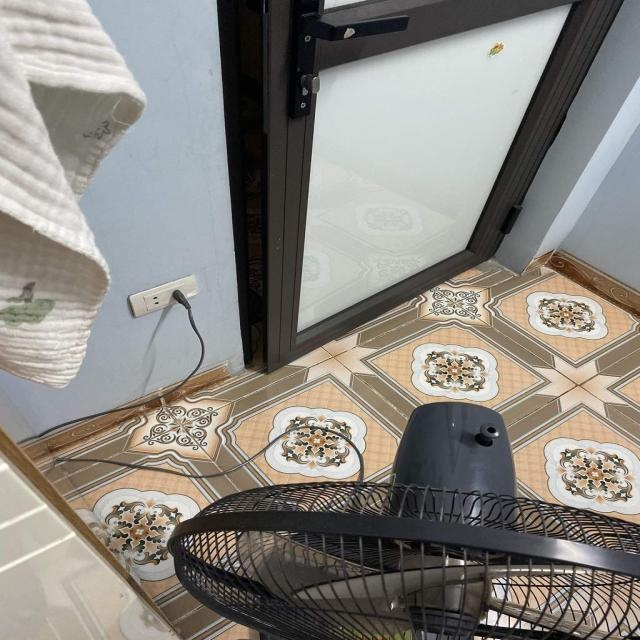outlet: (127, 274, 198, 318)
